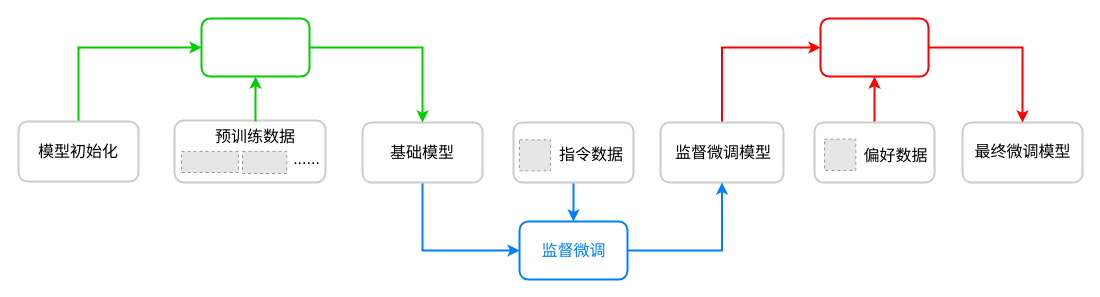
This 1100x297 diagram has some shape labels left out. Grey dashed boxes stand in for pictures. The box of each missing label's shape, as (x1, y1, x2, y2) in pixels:
强化学习: (819, 17, 929, 77)
预训练: (200, 17, 310, 77)
